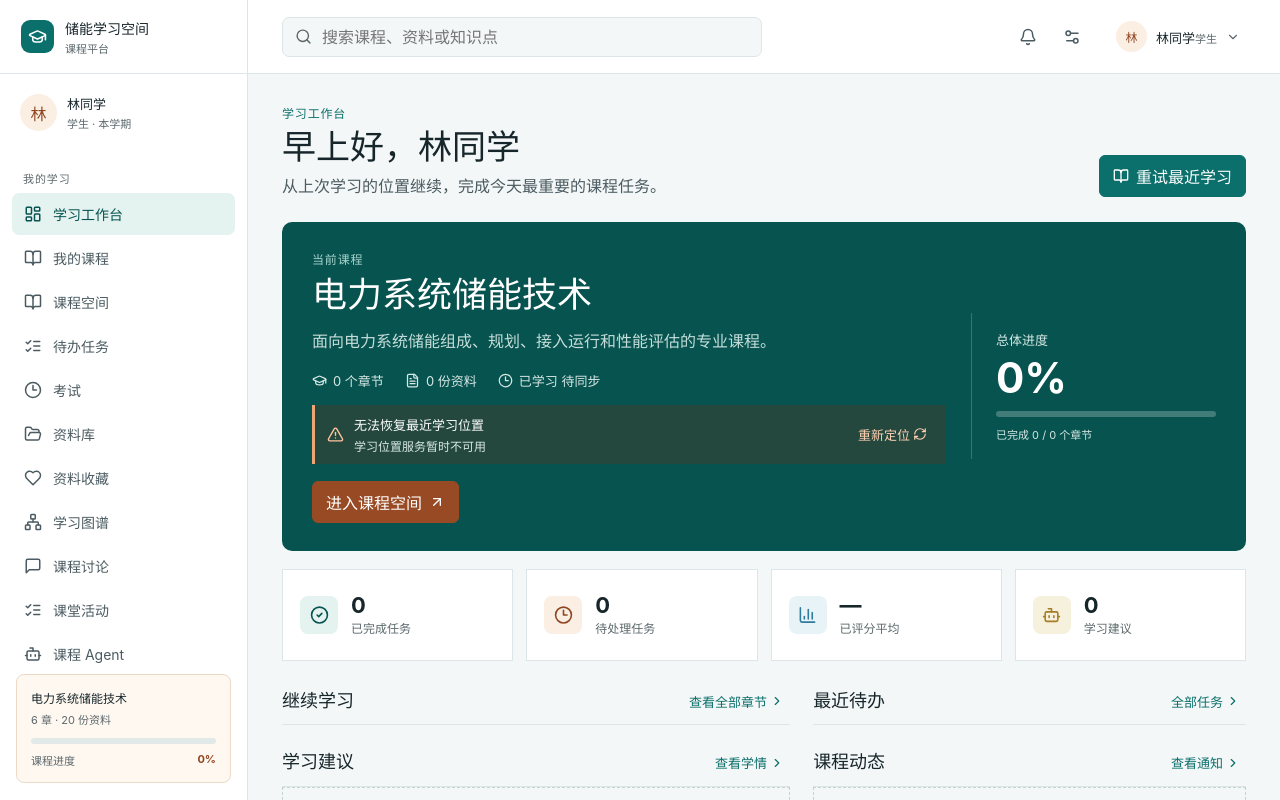
Test: learning platform component › component reports a resume failure and retries without pretending it found a position
Check: the text "无法恢复最近学习位置" is shown, box [354,415,486,434]
Check: the text "学习位置服务暂时不可用" is shown, box [354,437,486,454]
Click the button "重新定位". click: {"x": 892, "y": 434}
box: [852,424,933,445]
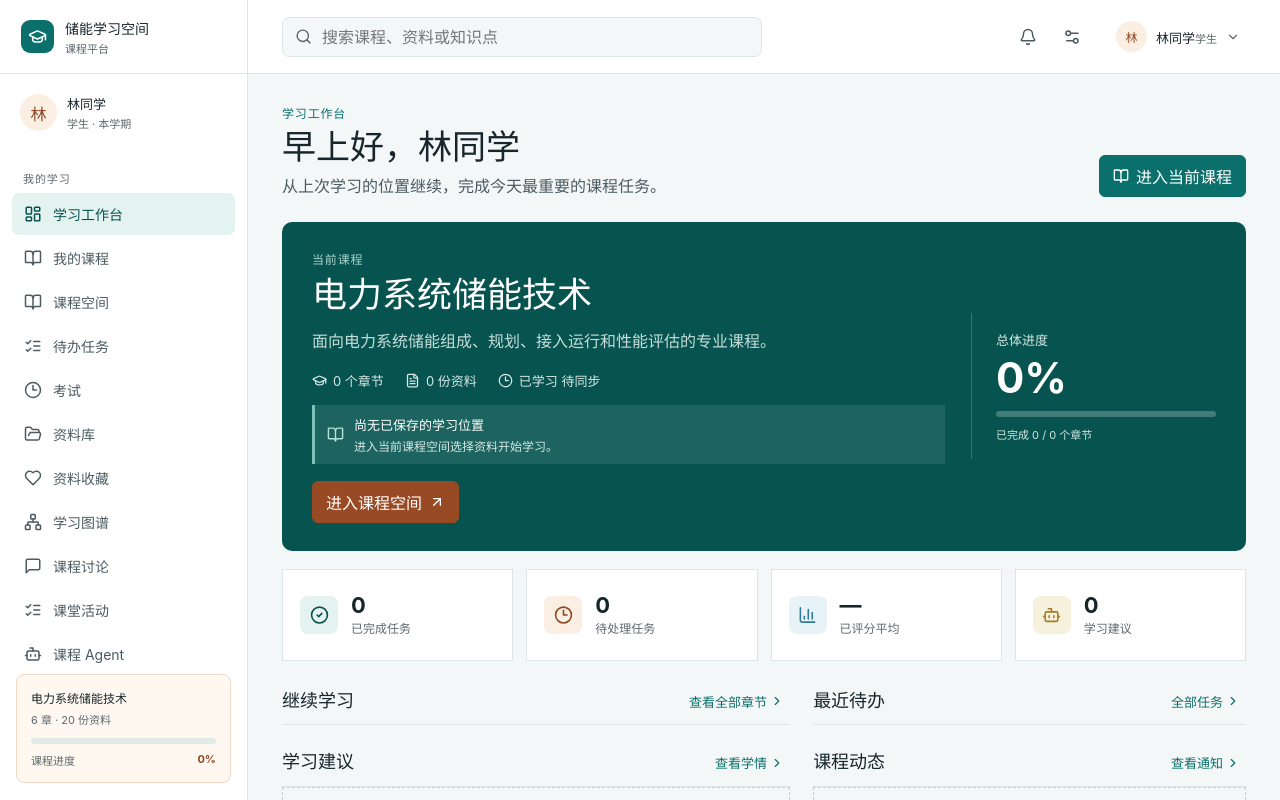
Check: the text "尚无已保存的学习位置" is shown, box [354,417,484,433]
